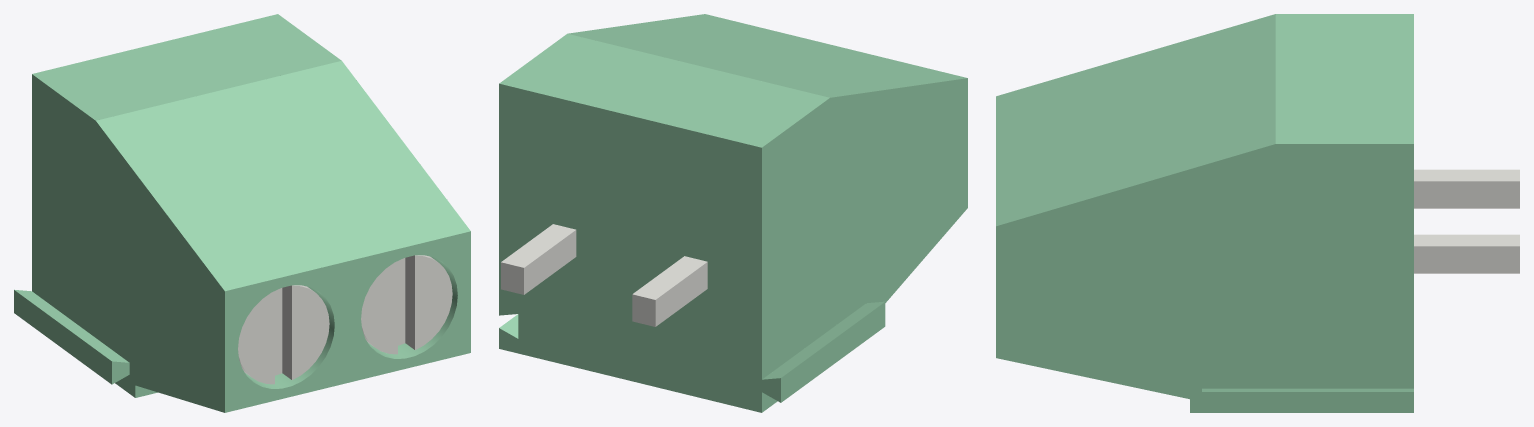
File: TerminalBlock_Phoenix_MKDS-1,5-2-5.08_1x02_P5.08mm_Horizontal.glb
The picture shows the model from 3 angles, left to right: view 1: azimuth 30°, elevation 25°; view 2: azimuth 150°, elevation 25°; view 3: azimuth 270°, elevation 25°; orthographic projection. The views are drawn at different scales.
Visible parts, largest first — view 1: Shape_IndexedFaceSet.003, Shape_IndexedFaceSet, Shape_IndexedFaceSet.004, Shape_IndexedFaceSet.002, Shape_IndexedFaceSet.077, Shape_IndexedFaceSet.067, Shape_IndexedFaceSet.071, Shape_IndexedFaceSet.081, Shape_IndexedFaceSet.014, Shape_IndexedFaceSet.006, Shape_IndexedFaceSet.013, Shape_IndexedFaceSet.012 (+4 smaller); view 2: Shape_IndexedFaceSet.005, Shape_IndexedFaceSet, Shape_IndexedFaceSet.004, Shape_IndexedFaceSet.003, Shape_IndexedFaceSet.014, Shape_IndexedFaceSet.019, Shape_IndexedFaceSet.023, Shape_IndexedFaceSet.006, Shape_IndexedFaceSet.020, Shape_IndexedFaceSet.024, Shape_IndexedFaceSet.051, Shape_IndexedFaceSet.052; view 3: Shape_IndexedFaceSet.011, Shape_IndexedFaceSet.003, Shape_IndexedFaceSet.004, Shape_IndexedFaceSet.021, Shape_IndexedFaceSet.025, Shape_IndexedFaceSet.016, Shape_IndexedFaceSet.020, Shape_IndexedFaceSet.024, Shape_IndexedFaceSet.015.
Part boxes in pixels (x1,y1,x2,y2): Shape_IndexedFaceSet.003: (96,61,470,291); Shape_IndexedFaceSet: (32,74,224,412); Shape_IndexedFaceSet.004: (32,14,341,120); Shape_IndexedFaceSet.002: (225,231,470,412); Shape_IndexedFaceSet.077: (415,255,452,349); Shape_IndexedFaceSet.067: (292,285,329,379); Shape_IndexedFaceSet.071: (238,291,274,384); Shape_IndexedFaceSet.081: (361,261,397,354); Shape_IndexedFaceSet.014: (14,290,111,384); Shape_IndexedFaceSet.006: (14,289,129,362); Shape_IndexedFaceSet.013: (368,256,457,358); Shape_IndexedFaceSet.012: (245,287,334,388); Shape_IndexedFaceSet.005: (499,83,780,412); Shape_IndexedFaceSet: (762,78,967,412); Shape_IndexedFaceSet.004: (499,33,829,147); Shape_IndexedFaceSet.003: (568,14,967,97); Shape_IndexedFaceSet.014: (781,302,885,402); Shape_IndexedFaceSet.019: (655,262,707,326); Shape_IndexedFaceSet.023: (524,230,576,294); Shape_IndexedFaceSet.006: (762,301,884,379); Shape_IndexedFaceSet.020: (633,256,707,299); Shape_IndexedFaceSet.024: (501,224,575,267); Shape_IndexedFaceSet.051: (632,294,655,326); Shape_IndexedFaceSet.052: (501,262,523,294); Shape_IndexedFaceSet.011: (996,144,1413,412); Shape_IndexedFaceSet.003: (996,14,1275,226); Shape_IndexedFaceSet.004: (1275,14,1413,143); Shape_IndexedFaceSet.021: (1414,181,1519,208); Shape_IndexedFaceSet.025: (1414,246,1519,273); Shape_IndexedFaceSet.016: (1202,379,1413,388); Shape_IndexedFaceSet.020: (1414,169,1519,181); Shape_IndexedFaceSet.024: (1414,234,1519,246); Shape_IndexedFaceSet.015: (1202,388,1413,391).
Bounding box in the file's own units: 4.29 × 3.86 × 6.81.
